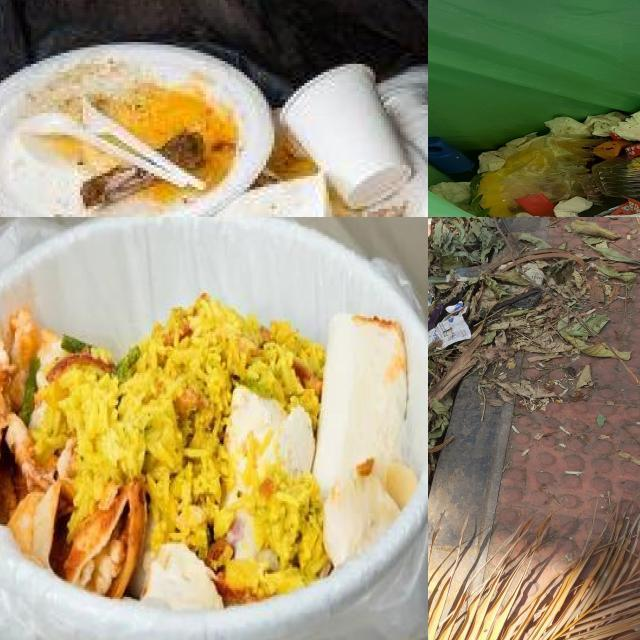Disposable: (592, 156, 640, 199)
Garbage: (0, 293, 428, 620), (0, 32, 428, 217), (428, 217, 630, 489), (428, 111, 640, 217)
Plastic_Bag: (478, 135, 601, 217)
contaminated_waste: (16, 83, 212, 196)
